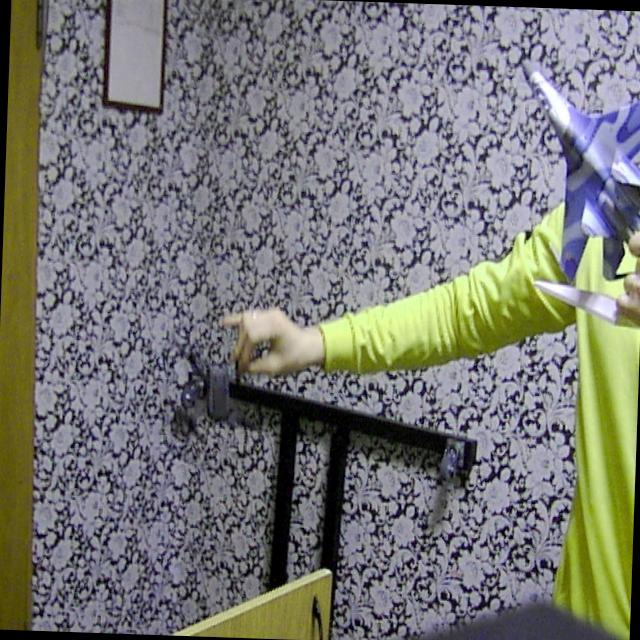drone: (158, 296, 277, 464)
